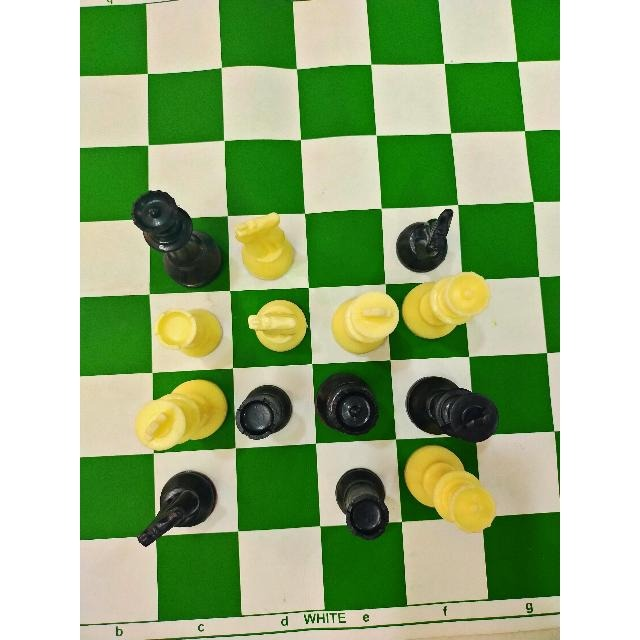black-king: (402, 364, 510, 446)
black-knight: (129, 462, 221, 546), (397, 212, 452, 276)
black-queen: (124, 187, 226, 289), (316, 373, 382, 441)
black-rook: (322, 460, 400, 546), (229, 380, 292, 442)
white-king: (130, 381, 227, 453), (329, 288, 404, 355)
white-knight: (230, 207, 298, 281), (242, 292, 308, 358)
white-queen: (400, 443, 498, 539), (402, 270, 490, 346)
white-rook: (152, 308, 222, 358)
